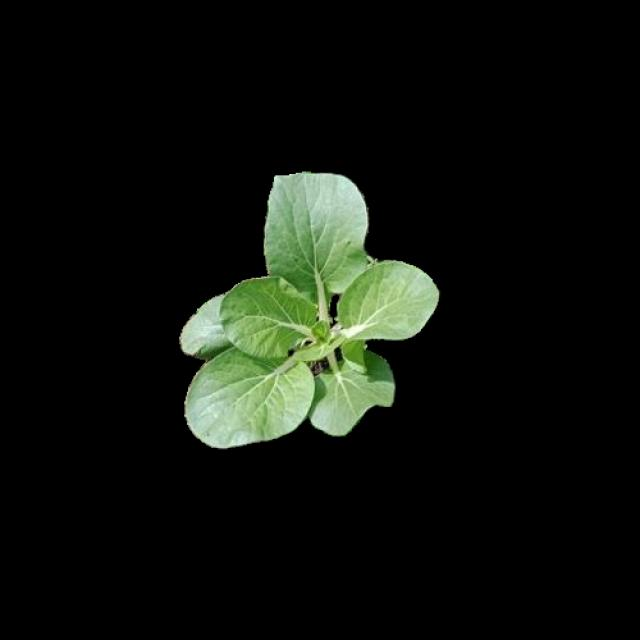healthy: (180, 169, 440, 443)
not-mature: (180, 172, 440, 446)
